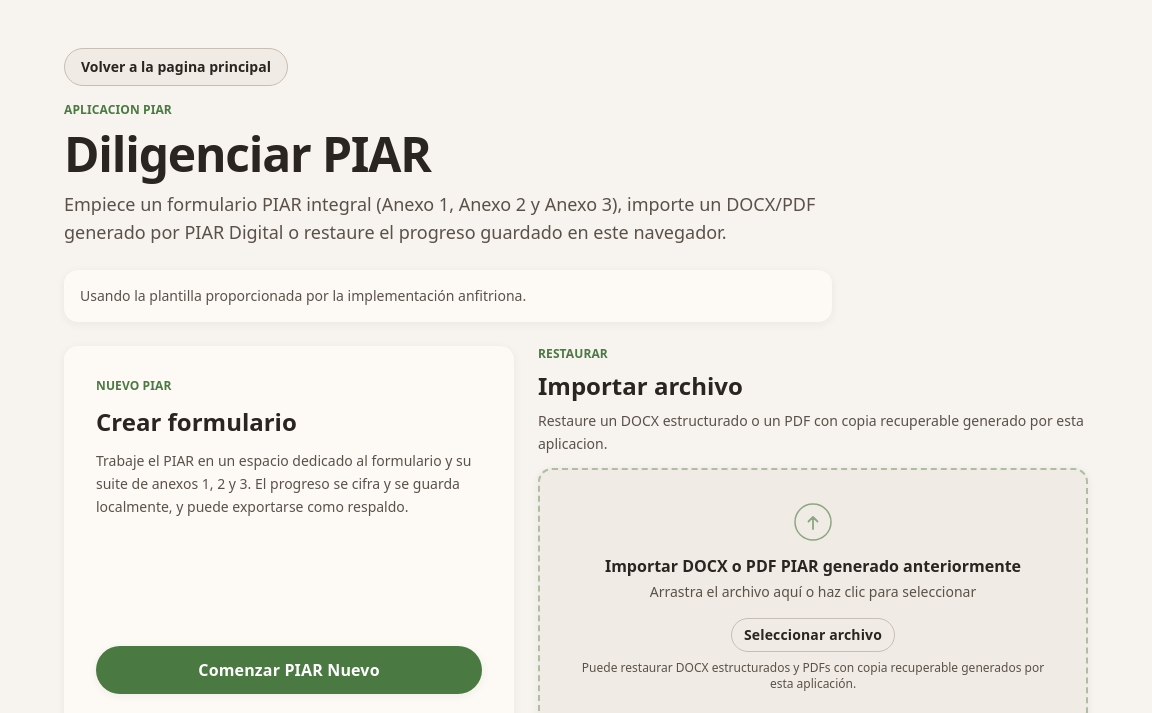
Test: Landing and restore smoke › shows a storage notice and starts a clean form when saved data is invalid
This screenshot has width=1152, height=713.
Click the button "Comenzar PIAR Nuevo": point(289, 670) x1=96 y1=646 x2=482 y2=694
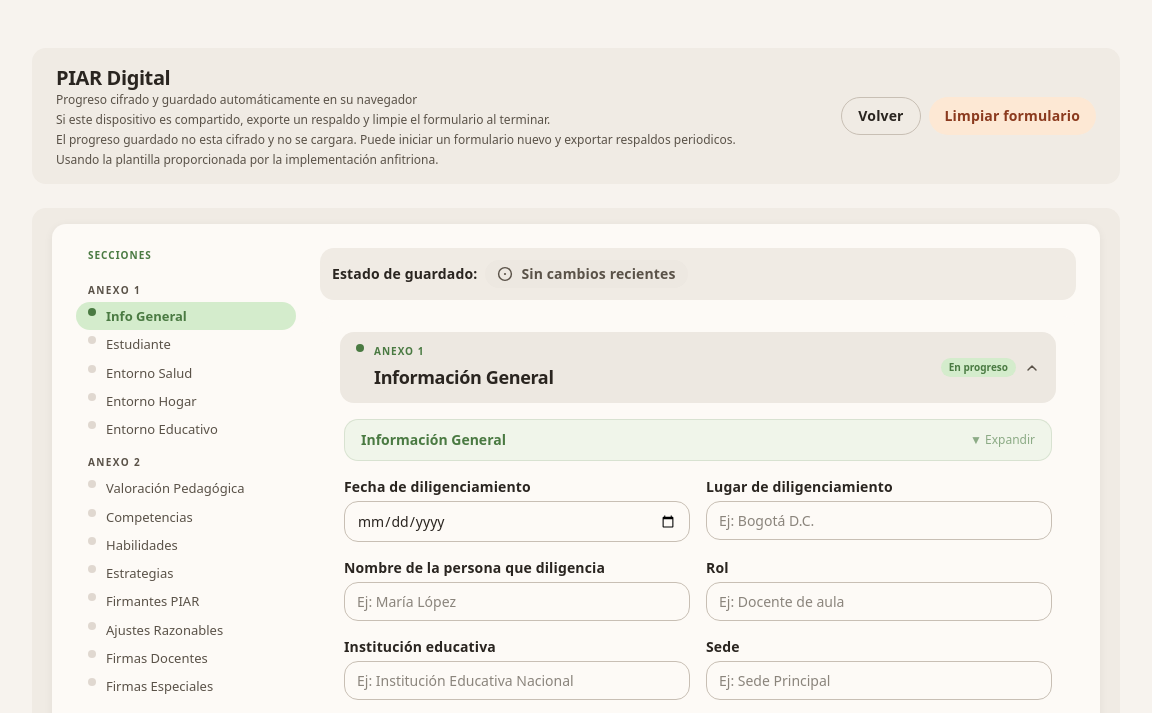
Expected: the text "no esta cifrado" is shown, x1=56 y1=131 x2=736 y2=148
